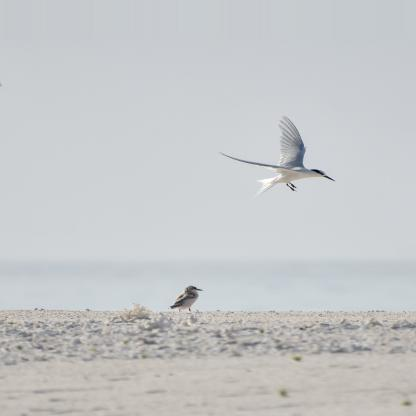bird: (217, 115, 336, 198), (167, 284, 205, 313)
